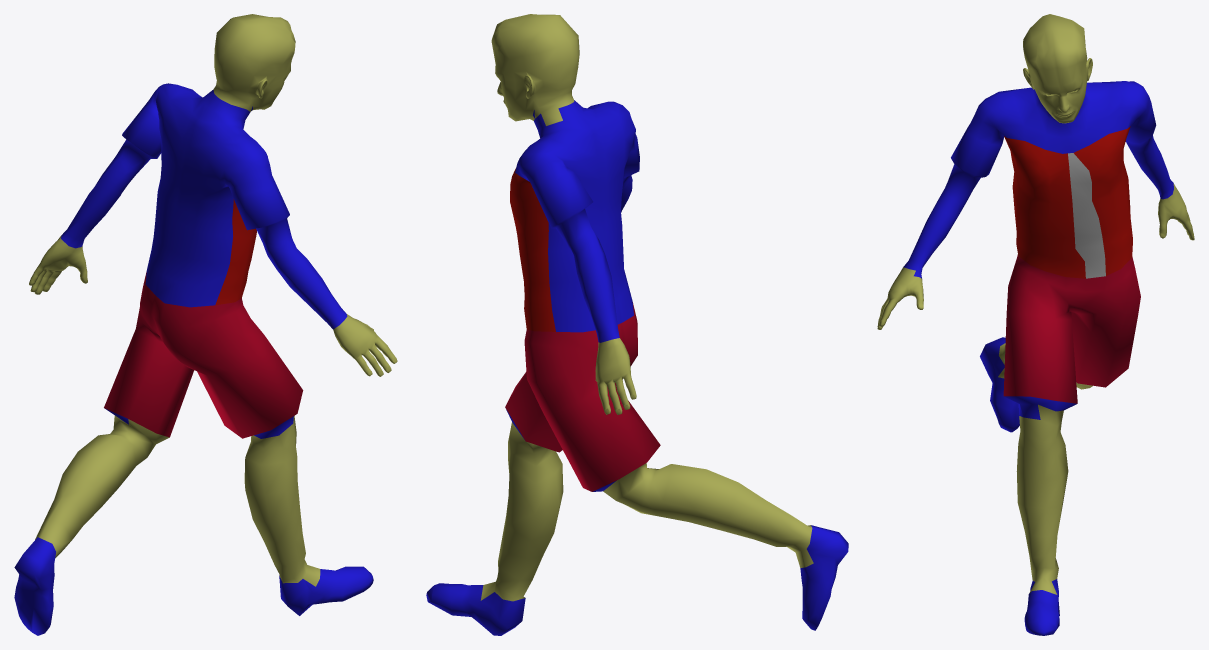
Rendered from player_000025.obj.
3 views of the same model, side by side, from view 1: azimuth 30°, elevation 25°; view 2: azimuth 150°, elevation 25°; view 3: azimuth 270°, elevation 25° (orthographic). The views are drawn at different scales.
Visible parts, largest first — view 1: soccerplayer_mesh; view 2: soccerplayer_mesh; view 3: soccerplayer_mesh.
Boxes of the visible parts, <box> form: soccerplayer_mesh: <box>14,14,397,635</box>; soccerplayer_mesh: <box>426,14,848,635</box>; soccerplayer_mesh: <box>877,14,1194,635</box>.
Bounding box in the file's own units: 3.42 × 5.17 × 2.57.
